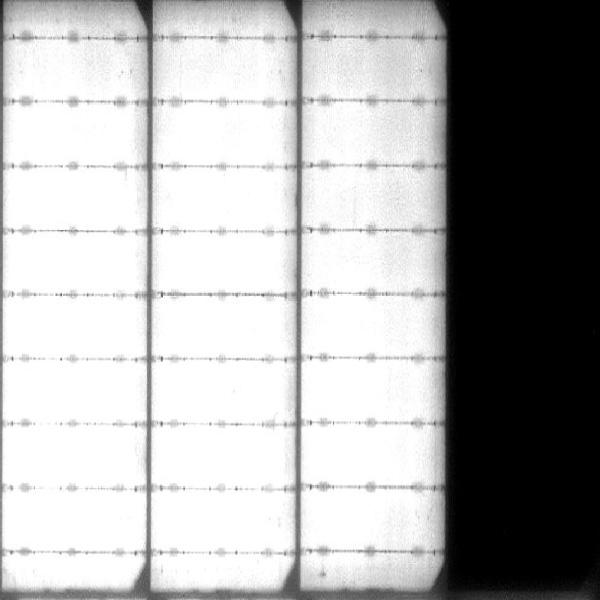hot_spot: (9, 492, 139, 548), (157, 495, 290, 549), (158, 108, 285, 163), (159, 300, 288, 354), (12, 430, 140, 484), (163, 365, 285, 420), (160, 237, 286, 289), (162, 430, 288, 482), (17, 300, 136, 354), (17, 365, 137, 418), (157, 176, 284, 225), (306, 366, 426, 416), (306, 495, 426, 545), (311, 432, 428, 482), (17, 109, 131, 158), (12, 173, 129, 220), (14, 239, 133, 285), (307, 301, 407, 351)
no_electricity: (449, 6, 599, 592)
